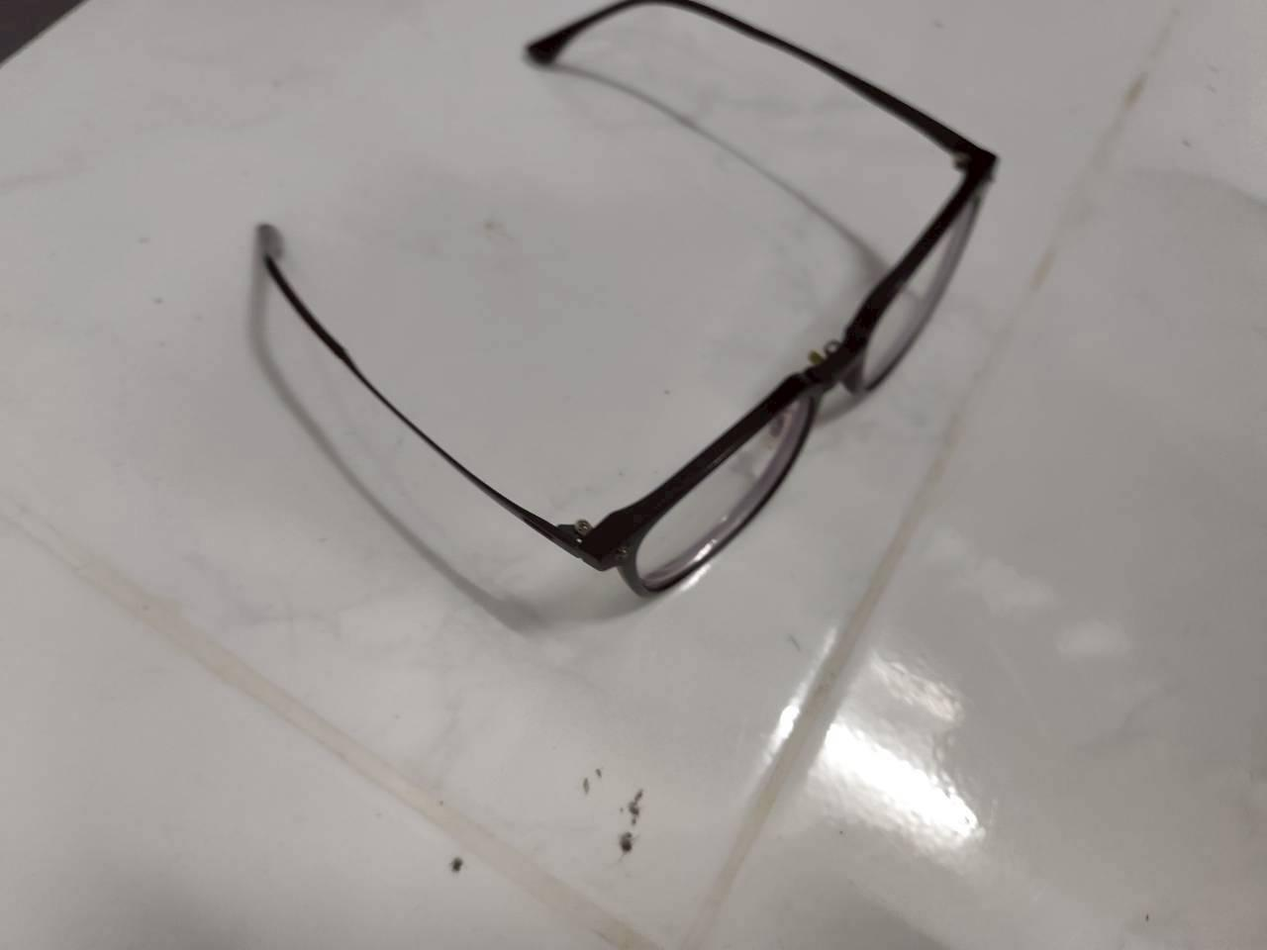glasses: (255, 5, 1006, 616)
